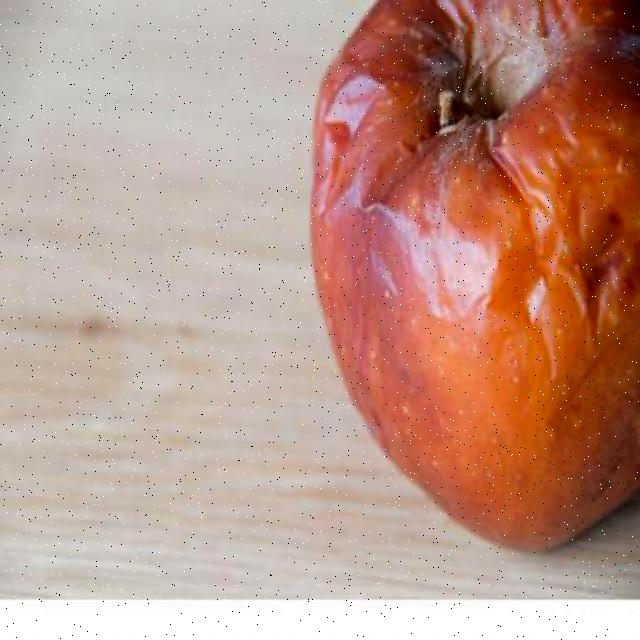ROT: (302, 2, 640, 584)
